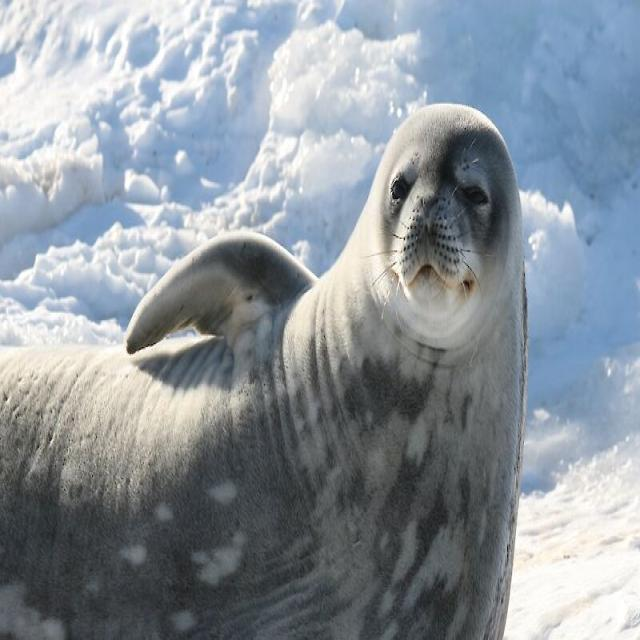WaterDog: (0, 98, 534, 640)
